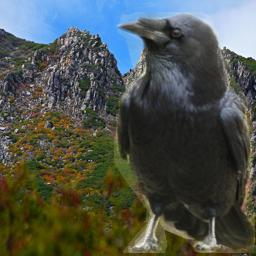Crow: (114, 12, 255, 253)
